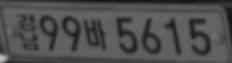1: (163, 17, 183, 55)
5: (187, 16, 213, 55), (114, 15, 138, 53)
6: (140, 16, 163, 54)
9: (61, 14, 81, 52), (40, 14, 60, 51)
경남_V: (15, 12, 40, 52)
바: (82, 18, 108, 51)
